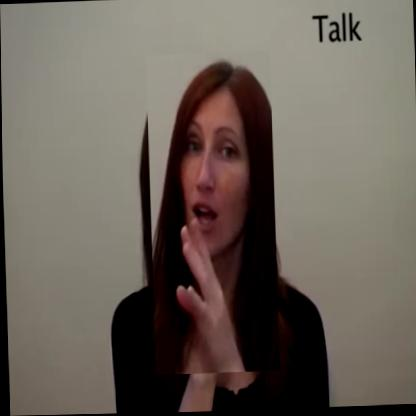Talk: (145, 51, 278, 375)
